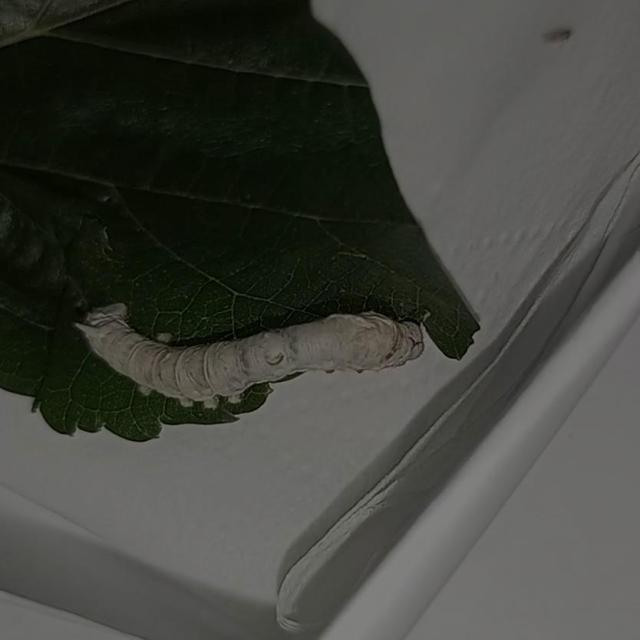Healthy: (48, 248, 444, 430)
